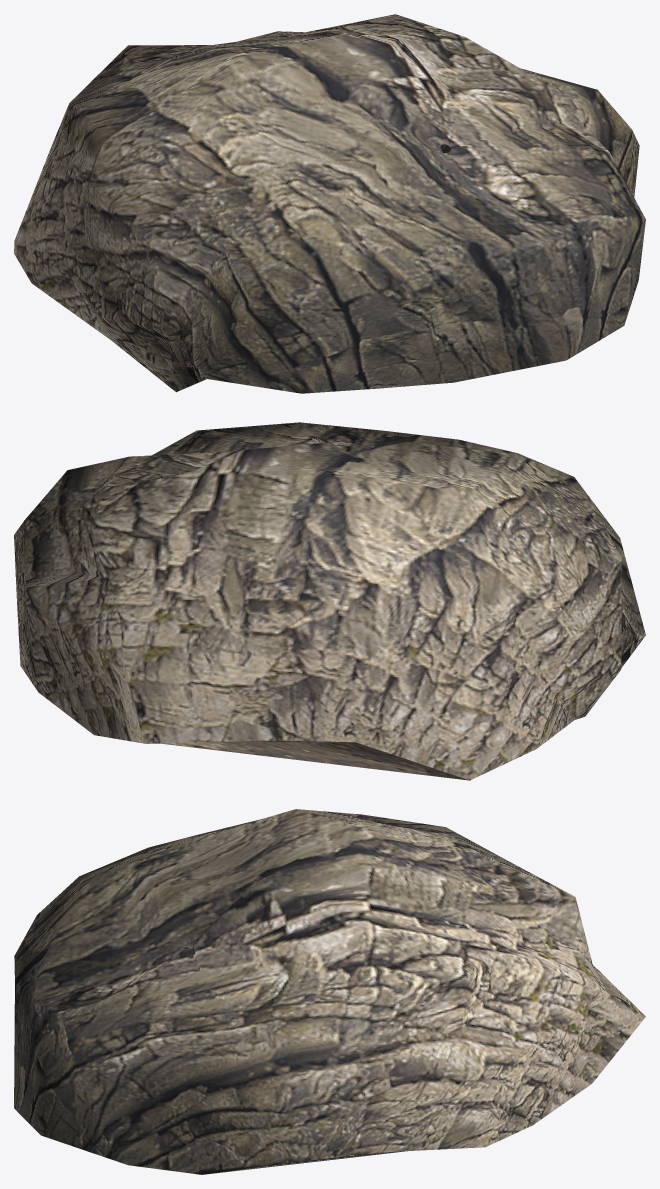
File: tunnel_meteorite.obj
3 views of the same model, one above another, from view 1: azimuth 30°, elevation 25°; view 2: azimuth 150°, elevation 25°; view 3: azimuth 270°, elevation 25° (orthographic). The views are drawn at different scales.
Parts seen in each view (by area): view 1: GeoSphere002; view 2: GeoSphere002; view 3: GeoSphere002.
Boxes of the visible parts, bbox=[...] form: GeoSphere002: bbox=[14, 14, 645, 393]; GeoSphere002: bbox=[14, 422, 645, 780]; GeoSphere002: bbox=[14, 809, 645, 1174].
Size of the model in its own units: 5826 by 2442 by 5754.
